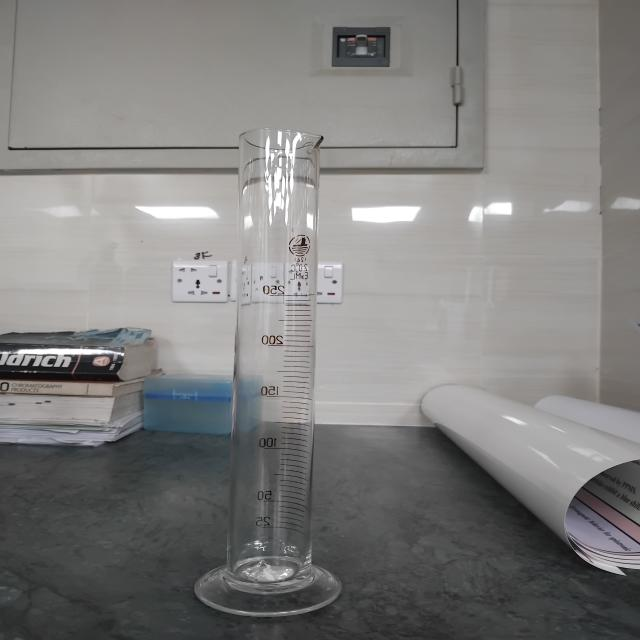Measuring_Cylinder: (144, 63, 402, 630)
